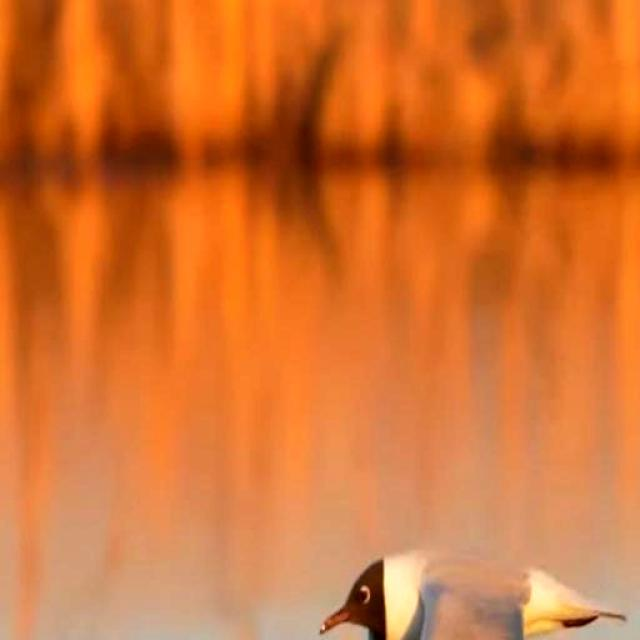airplane: (320, 536, 616, 640)
